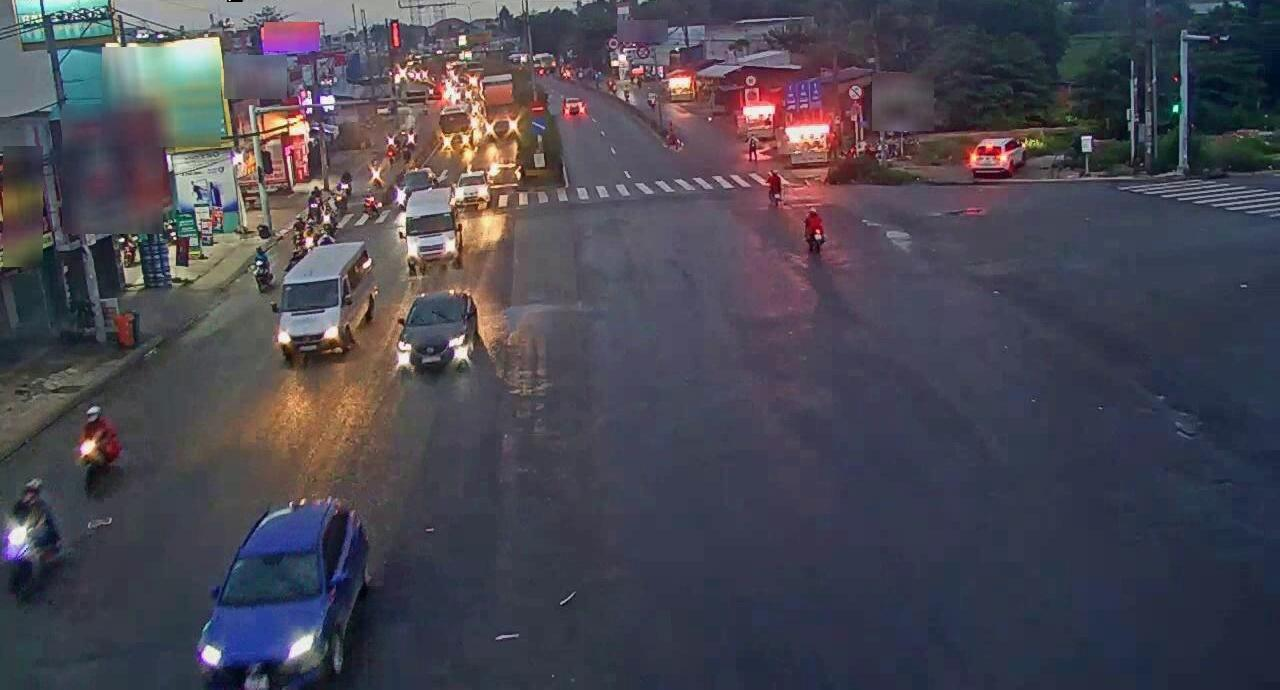xe hoi: (198, 497, 379, 690), (395, 290, 476, 371)
xe may: (0, 475, 66, 592), (73, 401, 122, 494)
xe van: (277, 240, 374, 359), (404, 187, 462, 265)
